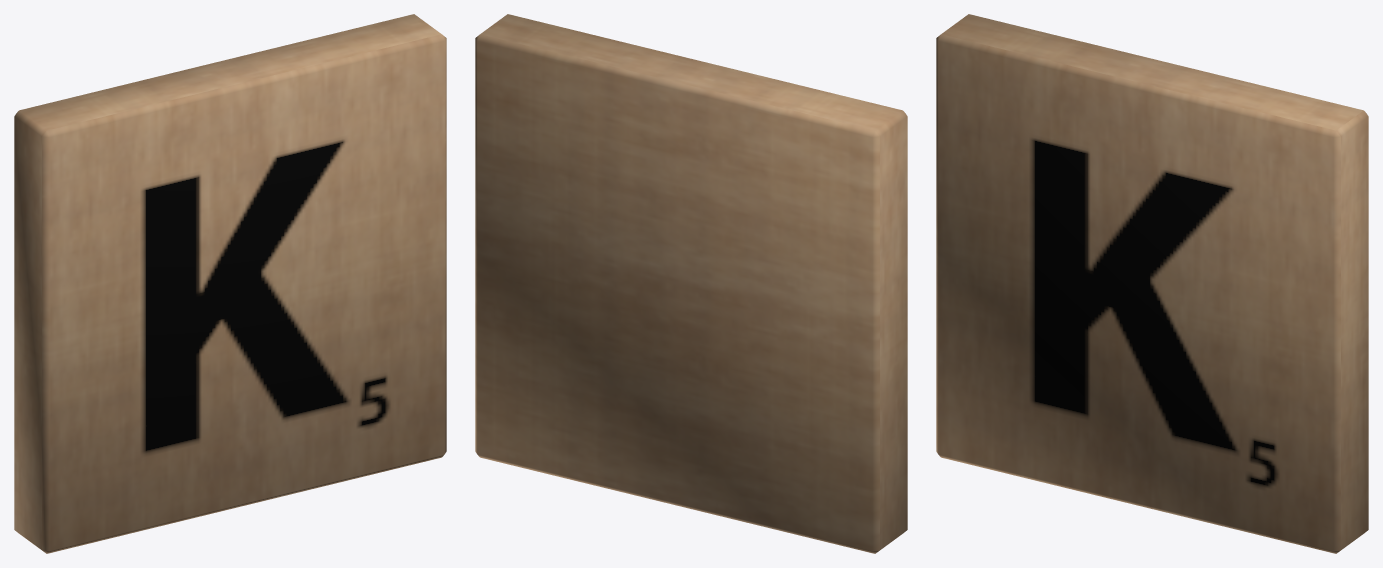
File: letter k 2.gltf
3 views of the same model, side by side, from view 1: azimuth 30°, elevation 25°; view 2: azimuth 150°, elevation 25°; view 3: azimuth 330°, elevation 25° (orthographic).
Parts seen in each view (by area): view 1: Scrabble_Letter_Q.006; view 2: Scrabble_Letter_Q.006; view 3: Scrabble_Letter_Q.006.
Part boxes in pixels (bbox=[...]): Scrabble_Letter_Q.006: bbox=[14, 14, 446, 553]; Scrabble_Letter_Q.006: bbox=[475, 14, 907, 553]; Scrabble_Letter_Q.006: bbox=[936, 14, 1368, 553].
Size of the model in its own units: 5.14 by 5.14 by 0.728.
1 material, 1 textured.
